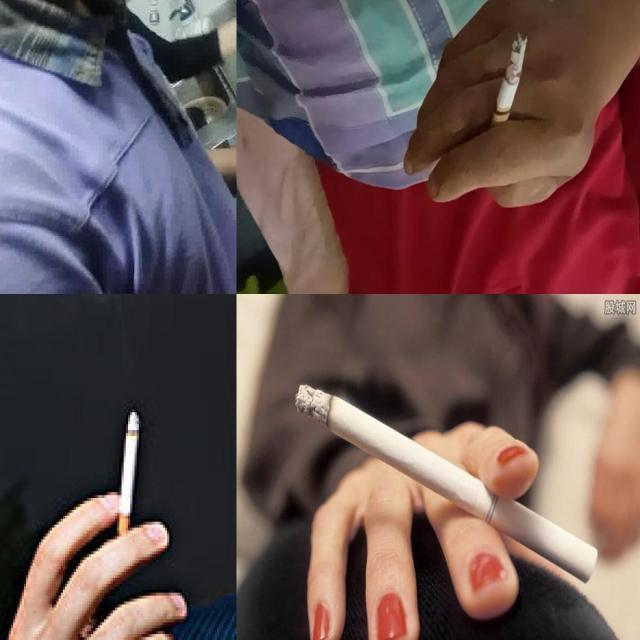smoking: (295, 384, 599, 583), (486, 30, 530, 143), (115, 403, 137, 531)
